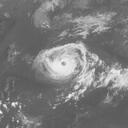cyclone: (33, 45, 91, 82)
